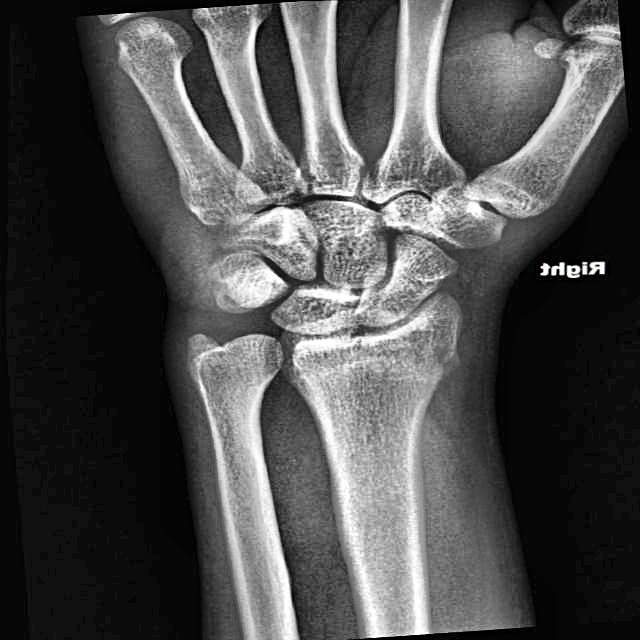Healthy: (84, 2, 618, 598)
